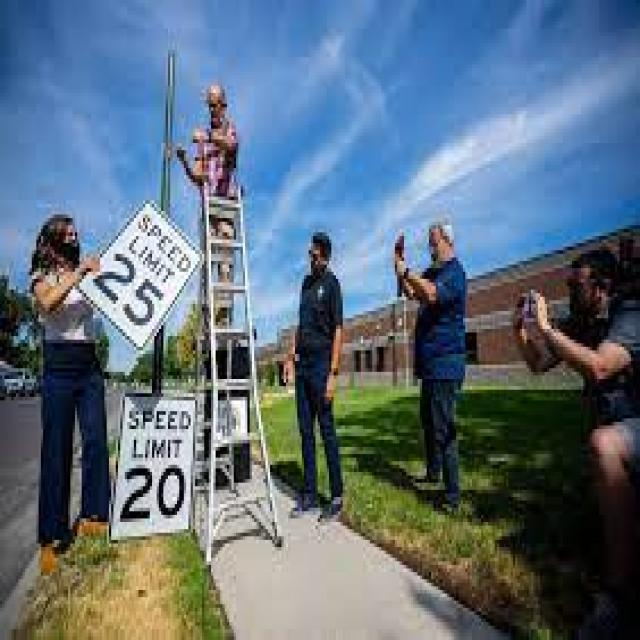speedLimit20: (109, 379, 198, 537)
speedLimit25: (82, 190, 192, 340)
